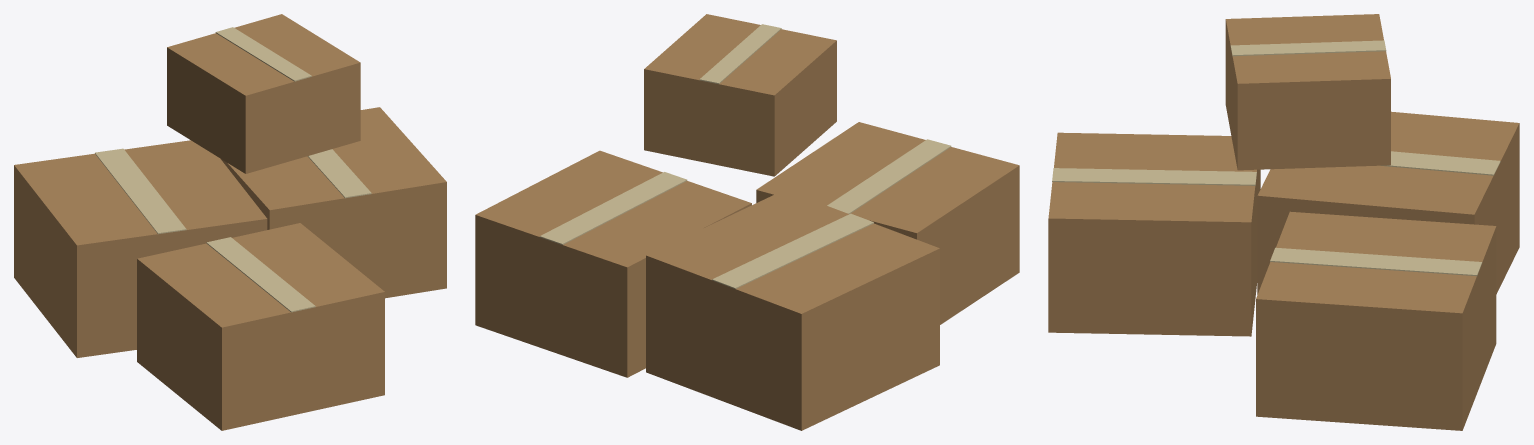
File: SM_Prop_CardboardBox_Stack_01.glb
The picture shows the model from 3 angles, left to right: view 1: azimuth 30°, elevation 25°; view 2: azimuth 150°, elevation 25°; view 3: azimuth 270°, elevation 25°; orthographic projection. The views are drawn at different scales.
Visible parts, largest first — view 1: SM_Prop_CardboardBox_Stack_01; view 2: SM_Prop_CardboardBox_Stack_01; view 3: SM_Prop_CardboardBox_Stack_01.
Part boxes in pixels (<box>): SM_Prop_CardboardBox_Stack_01: <box>14,14,446,430</box>; SM_Prop_CardboardBox_Stack_01: <box>475,14,1019,430</box>; SM_Prop_CardboardBox_Stack_01: <box>1048,14,1519,430</box>.
Bounding box in the file's own units: 1.56 × 1.01 × 1.53.
Materials: 1 (1 with a texture image).
